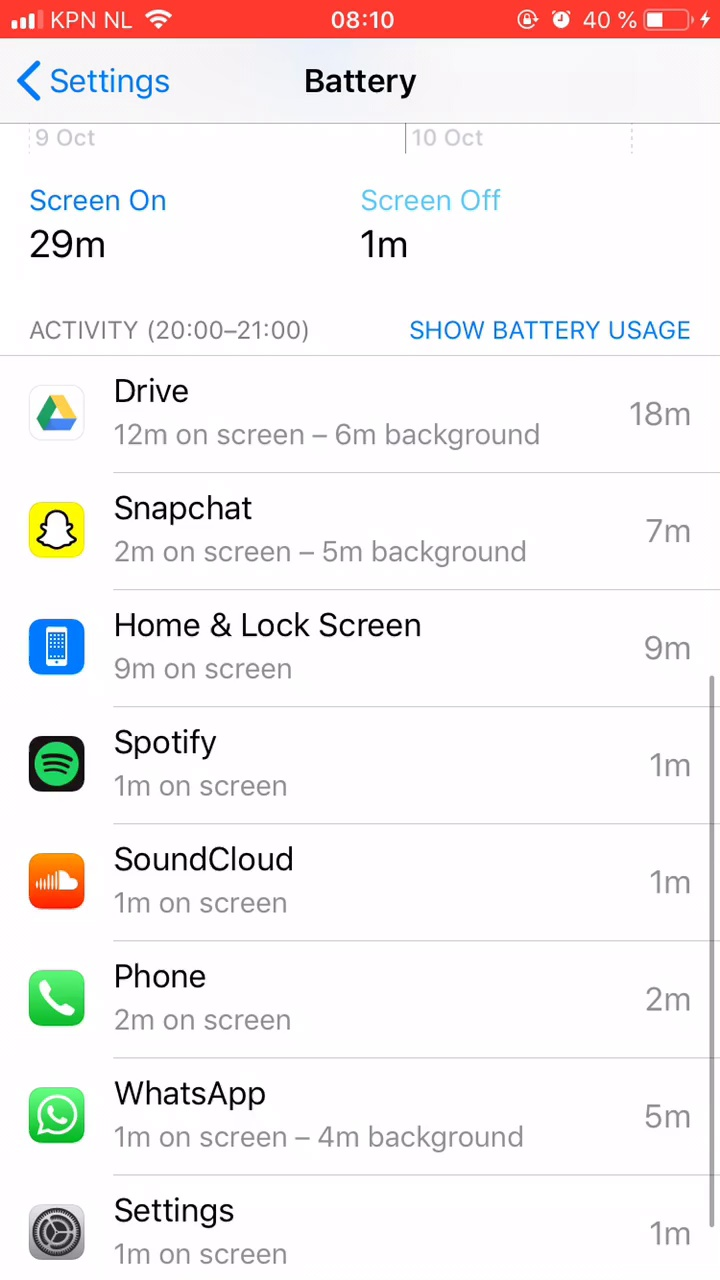activity: (31, 298, 328, 343)
app: (26, 364, 702, 450), (31, 484, 707, 570), (25, 596, 701, 682), (23, 713, 699, 799), (20, 834, 696, 920), (23, 962, 699, 1048), (21, 1067, 697, 1153), (21, 1186, 697, 1272)
